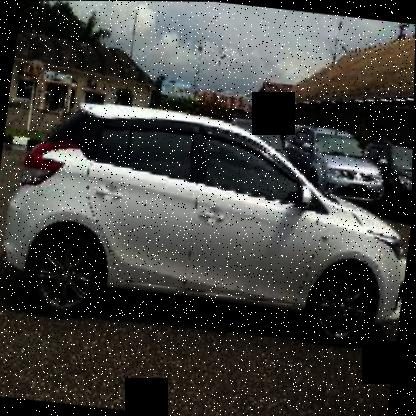not_emergency: (0, 82, 414, 363)
